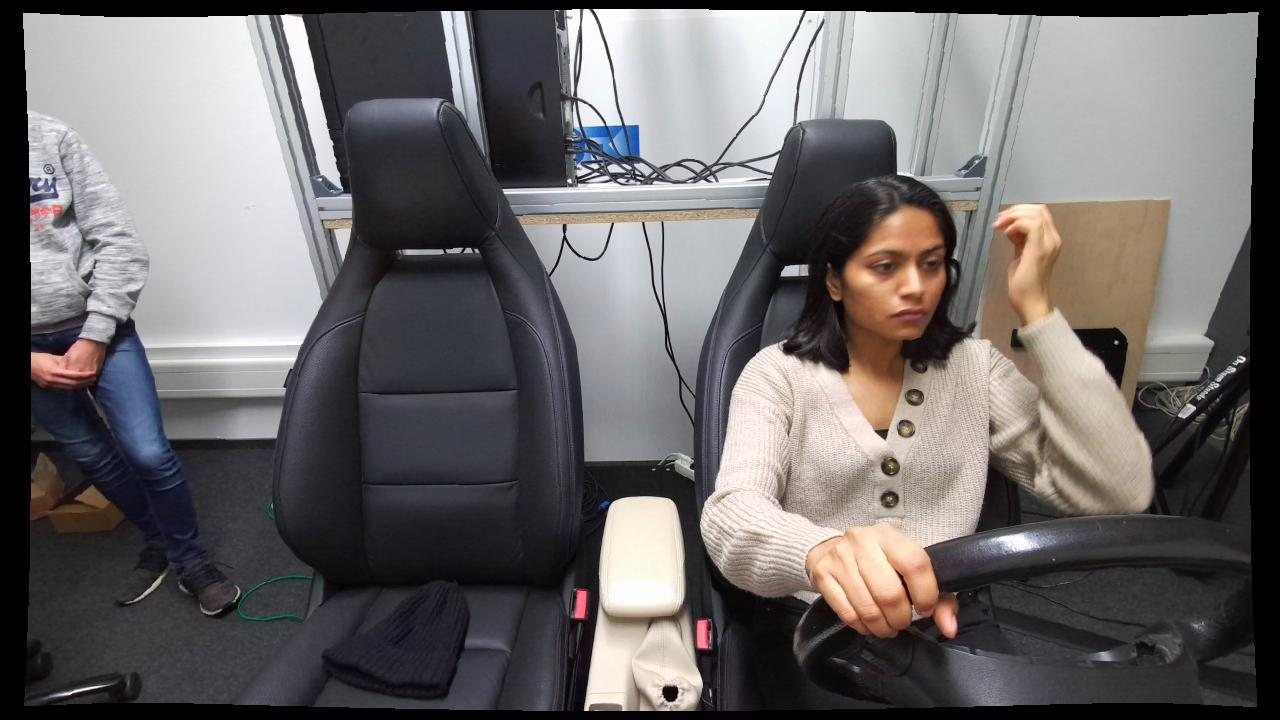Distracted: (697, 156, 1145, 707)
